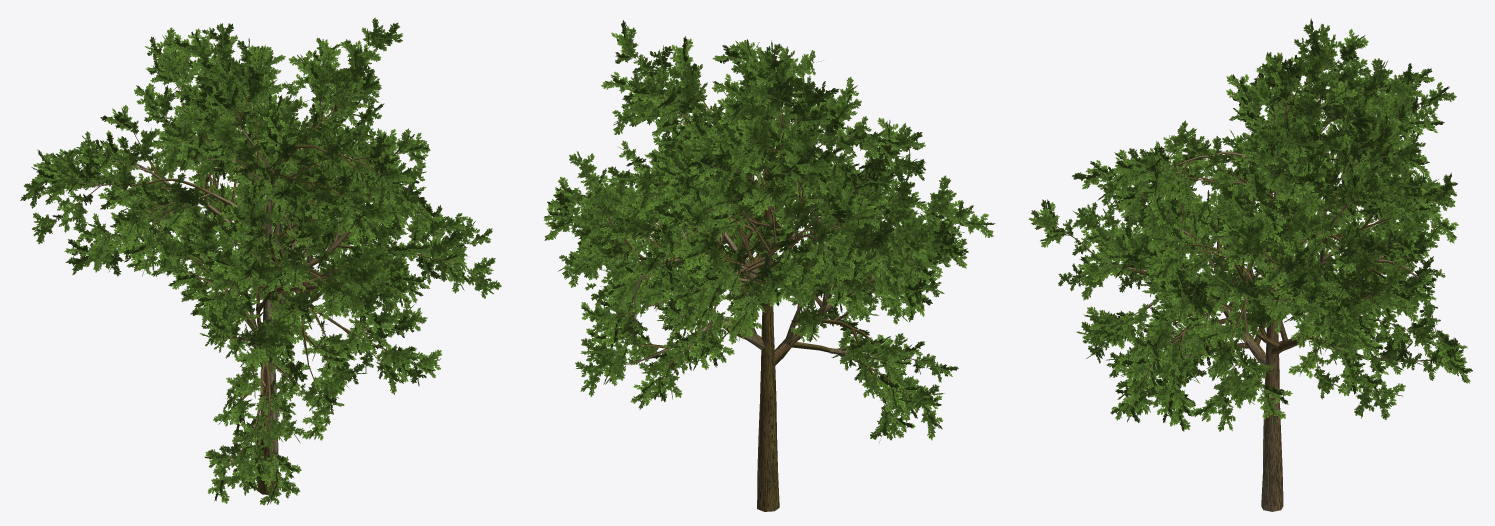
The model's file is oak.glb.
3 views of the same model, side by side, from view 1: azimuth 30°, elevation 25°; view 2: azimuth 150°, elevation 25°; view 3: azimuth 270°, elevation 25° (orthographic). The views are drawn at different scales.
Visible parts, largest first — view 1: foliage, branches; view 2: foliage, branches; view 3: foliage, branches.
Part boxes in pixels (<box>): foliage: <box>20,17,501,505</box>; branches: <box>62,48,467,494</box>; foliage: <box>543,20,995,442</box>; branches: <box>572,59,953,511</box>; foliage: <box>1028,18,1472,431</box>; branches: <box>1057,55,1446,511</box>.
Size of the model in its own units: 11.07 by 12 by 10.44.
2 materials, 2 textured.
